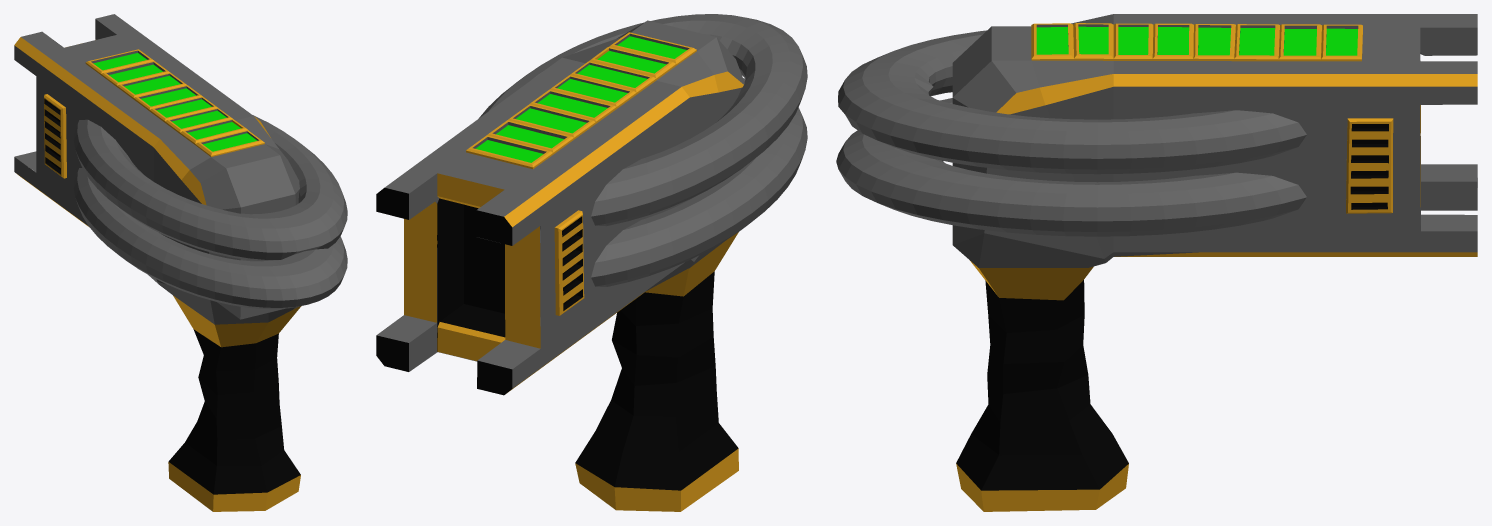
Rendered from TPGun.fbx.
The picture shows the model from 3 angles, left to right: view 1: azimuth 30°, elevation 25°; view 2: azimuth 150°, elevation 25°; view 3: azimuth 270°, elevation 25°; orthographic projection. The views are drawn at different scales.
Parts seen in each view (by area): view 1: UpgradedTeleportGun; view 2: UpgradedTeleportGun; view 3: UpgradedTeleportGun.
Boxes of the visible parts, bbox=[...] form: UpgradedTeleportGun: bbox=[14, 14, 347, 511]; UpgradedTeleportGun: bbox=[376, 14, 807, 511]; UpgradedTeleportGun: bbox=[836, 14, 1477, 511].
Size of the model in its own units: 73.3 by 128 by 166.
